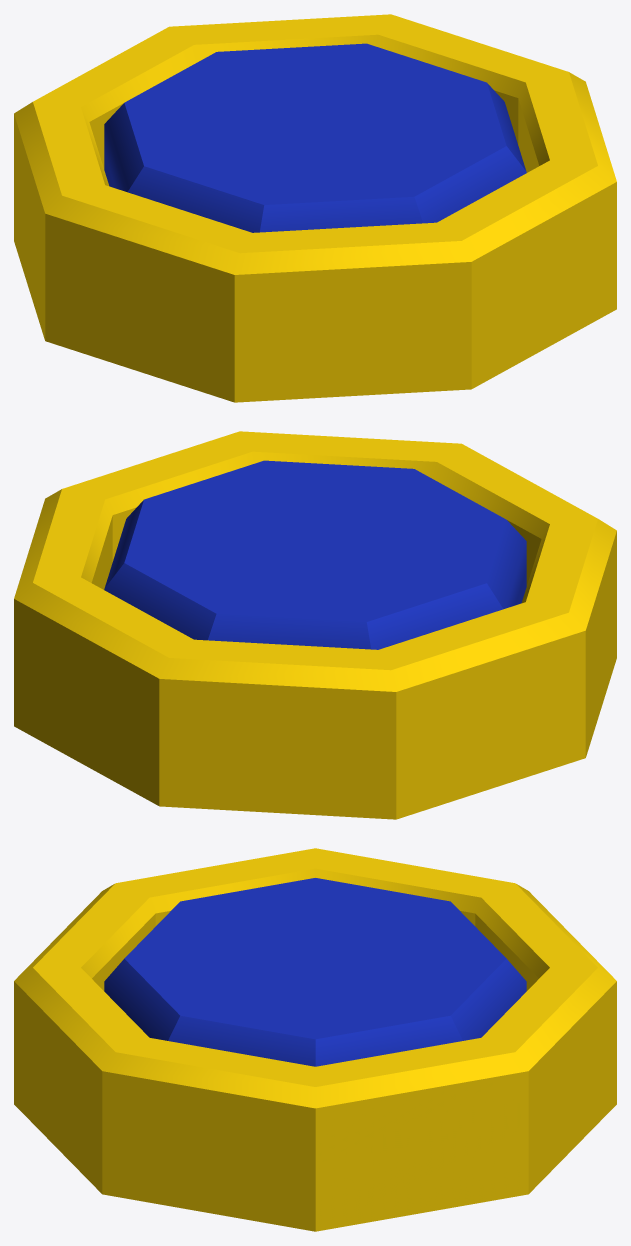
The model's file is Tiles.fbx.
3 renders of one model, top to bottom at view 1: azimuth 30°, elevation 25°; view 2: azimuth 150°, elevation 25°; view 3: azimuth 270°, elevation 25°, orthographic. The views are drawn at different scales.
Visible parts, largest first — view 1: Gold, Blue; view 2: Gold, Blue; view 3: Gold, Blue.
Part boxes in pixels (<box>): Gold: <box>14,14,616,402</box>; Blue: <box>104,43,526,232</box>; Gold: <box>14,431,616,819</box>; Blue: <box>104,460,526,649</box>; Gold: <box>14,848,616,1231</box>; Blue: <box>104,878,526,1066</box>.
Size of the model in its own units: 2 by 0.5334 by 2.
